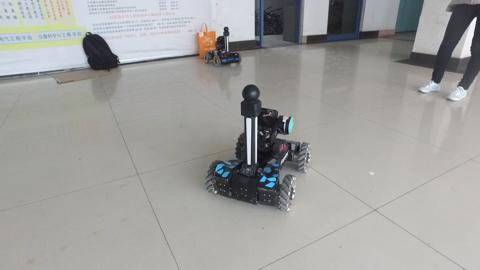bag: (78, 30, 122, 74), (196, 22, 218, 62)
chariot: (203, 81, 312, 213), (202, 24, 243, 68)
